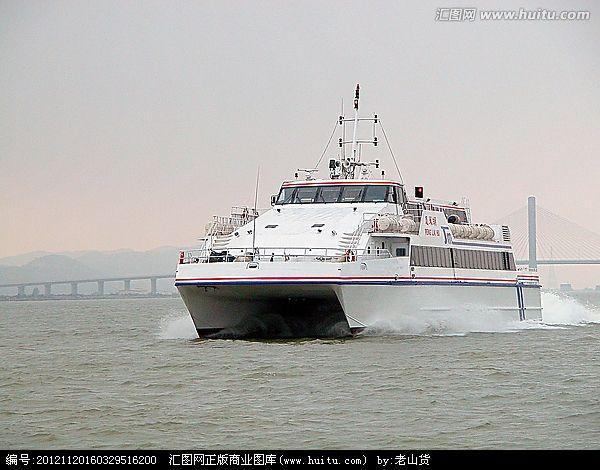yacht: (178, 121, 544, 339)
